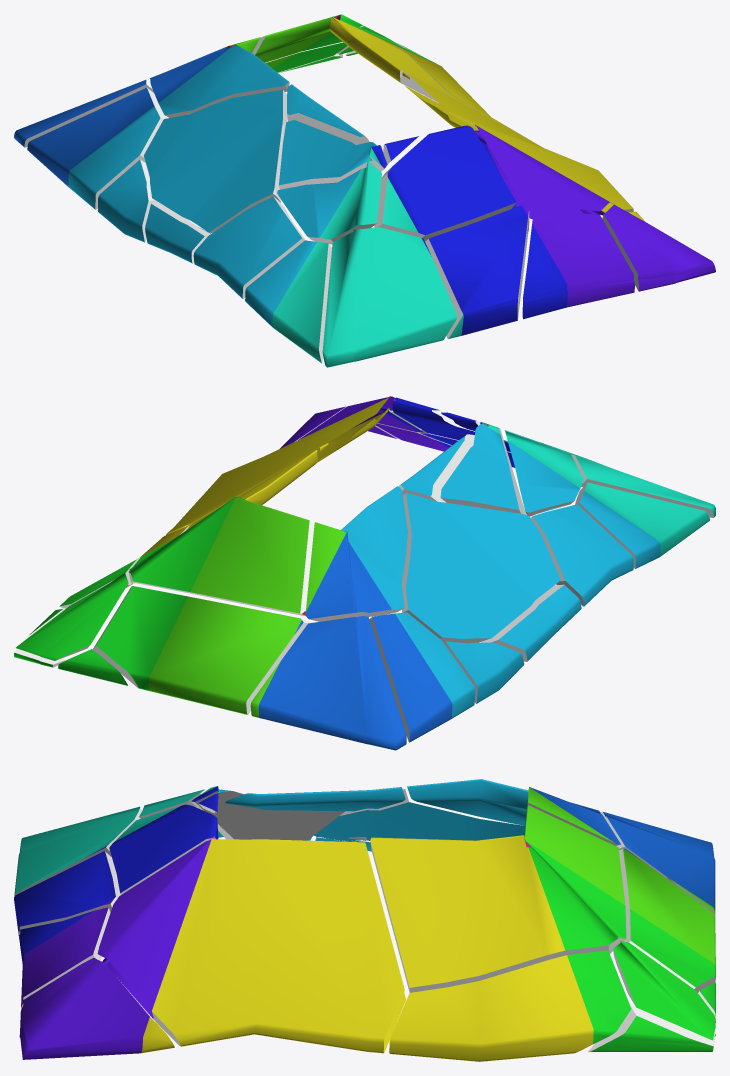
Rendered from Structure_Tower_Knight_Human_03_debris_cells_rooftop_02.fbx.
3 views of the same model, one above another, from view 1: azimuth 30°, elevation 25°; view 2: azimuth 150°, elevation 25°; view 3: azimuth 270°, elevation 25° (orthographic). The views are drawn at different scales.
Parts seen in each view (by area): view 1: Structure_Tower_Knight_Human_03.002_cell.008, Structure_Tower_Knight_Human_03.002_cell.022, Structure_Tower_Knight_Human_03.002_cell.002, Structure_Tower_Knight_Human_03.002_cell, Structure_Tower_Knight_Human_03.002_cell.020, Structure_Tower_Knight_Human_03.002_cell.016, Structure_Tower_Knight_Human_03.002_cell.010, Structure_Tower_Knight_Human_03.002_cell.009, Structure_Tower_Knight_Human_03.002_cell.023, Structure_Tower_Knight_Human_03.002_cell.018, Structure_Tower_Knight_Human_03.002_cell.013, Structure_Tower_Knight_Human_03.002_cell.017 (+8 smaller); view 2: Structure_Tower_Knight_Human_03.002_cell.008, Structure_Tower_Knight_Human_03.002_cell.005, Structure_Tower_Knight_Human_03.002_cell.013, Structure_Tower_Knight_Human_03.002_cell.021, Structure_Tower_Knight_Human_03.002_cell.023, Structure_Tower_Knight_Human_03.002_cell.010, Structure_Tower_Knight_Human_03.002_cell.020, Structure_Tower_Knight_Human_03.002_cell.009, Structure_Tower_Knight_Human_03.002_cell.018, Structure_Tower_Knight_Human_03.002_cell.012, Structure_Tower_Knight_Human_03.002_cell.017, Structure_Tower_Knight_Human_03.002_cell.015 (+10 smaller); view 3: Structure_Tower_Knight_Human_03.002_cell.020, Structure_Tower_Knight_Human_03.002_cell.013, Structure_Tower_Knight_Human_03.002_cell.007, Structure_Tower_Knight_Human_03.002_cell.001, Structure_Tower_Knight_Human_03.002_cell.005, Structure_Tower_Knight_Human_03.002_cell.023, Structure_Tower_Knight_Human_03.002_cell.008, Structure_Tower_Knight_Human_03.002_cell.002, Structure_Tower_Knight_Human_03.002_cell.021, Structure_Tower_Knight_Human_03.002_cell, Structure_Tower_Knight_Human_03.002_cell.022, Structure_Tower_Knight_Human_03.002_cell.016 (+5 smaller).
Part boxes in pixels (x1=…): Structure_Tower_Knight_Human_03.002_cell.008: x1=143, y1=90, x2=287, y2=232; Structure_Tower_Knight_Human_03.002_cell.022: x1=322, y1=227, x2=457, y2=367; Structure_Tower_Knight_Human_03.002_cell.002: x1=374, y1=125, x2=516, y2=241; Structure_Tower_Knight_Human_03.002_cell: x1=425, y1=205, x2=529, y2=338; Structure_Tower_Knight_Human_03.002_cell.020: x1=404, y1=74, x2=633, y2=219; Structure_Tower_Knight_Human_03.002_cell.016: x1=522, y1=210, x2=634, y2=319; Structure_Tower_Knight_Human_03.002_cell.010: x1=27, y1=88, x2=167, y2=209; Structure_Tower_Knight_Human_03.002_cell.009: x1=245, y1=240, x2=331, y2=363; Structure_Tower_Knight_Human_03.002_cell.023: x1=150, y1=37, x2=289, y2=117; Structure_Tower_Knight_Human_03.002_cell.018: x1=193, y1=196, x2=305, y2=298; Structure_Tower_Knight_Human_03.002_cell.013: x1=252, y1=14, x2=487, y2=116; Structure_Tower_Knight_Human_03.002_cell.017: x1=277, y1=161, x2=381, y2=244; Structure_Tower_Knight_Human_03.002_cell.008: x1=401, y1=493, x2=560, y2=643; Structure_Tower_Knight_Human_03.002_cell.005: x1=93, y1=586, x2=312, y2=714; Structure_Tower_Knight_Human_03.002_cell.013: x1=128, y1=450, x2=317, y2=616; Structure_Tower_Knight_Human_03.002_cell.021: x1=250, y1=616, x2=406, y2=750; Structure_Tower_Knight_Human_03.002_cell.023: x1=305, y1=486, x2=407, y2=621; Structure_Tower_Knight_Human_03.002_cell.010: x1=369, y1=612, x2=475, y2=742; Structure_Tower_Knight_Human_03.002_cell.020: x1=166, y1=396, x2=423, y2=534; Structure_Tower_Knight_Human_03.002_cell.009: x1=575, y1=482, x2=709, y2=568; Structure_Tower_Knight_Human_03.002_cell.018: x1=530, y1=504, x2=633, y2=606; Structure_Tower_Knight_Human_03.002_cell.012: x1=440, y1=422, x2=525, y2=514; Structure_Tower_Knight_Human_03.002_cell.017: x1=504, y1=430, x2=583, y2=516; Structure_Tower_Knight_Human_03.002_cell.015: x1=16, y1=573, x2=128, y2=660; Structure_Tower_Knight_Human_03.002_cell.020: x1=97, y1=839, x2=405, y2=1053; Structure_Tower_Knight_Human_03.002_cell.013: x1=370, y1=805, x2=626, y2=992; Structure_Tower_Knight_Human_03.002_cell.007: x1=389, y1=950, x2=631, y2=1061; Structure_Tower_Knight_Human_03.002_cell.001: x1=19, y1=958, x2=174, y2=1059; Structure_Tower_Knight_Human_03.002_cell.005: x1=619, y1=848, x2=715, y2=992; Structure_Tower_Knight_Human_03.002_cell.023: x1=407, y1=779, x2=620, y2=846; Structure_Tower_Knight_Human_03.002_cell.008: x1=314, y1=788, x2=525, y2=840; Structure_Tower_Knight_Human_03.002_cell.002: x1=109, y1=804, x2=218, y2=894; Structure_Tower_Knight_Human_03.002_cell.021: x1=600, y1=811, x2=715, y2=916; Structure_Tower_Knight_Human_03.002_cell: x1=14, y1=851, x2=121, y2=940; Structure_Tower_Knight_Human_03.002_cell.022: x1=14, y1=806, x2=142, y2=896; Structure_Tower_Knight_Human_03.002_cell.016: x1=19, y1=907, x2=110, y2=1009.
Bounding box in the file's own units: 578 × 210 × 810.
